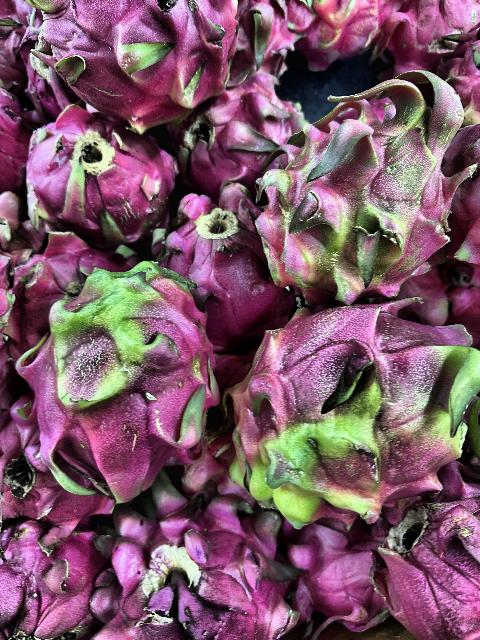buah-naga-belum-matang: (235, 290, 478, 508), (261, 77, 472, 293), (30, 260, 220, 488)
buah-naga-matang: (80, 468, 290, 640), (23, 0, 237, 112), (11, 108, 177, 235), (358, 490, 480, 640), (149, 191, 271, 329), (0, 404, 110, 522), (174, 81, 304, 175), (281, 518, 391, 628), (0, 512, 94, 640), (0, 237, 116, 326), (384, 0, 480, 96), (285, 0, 377, 54)
